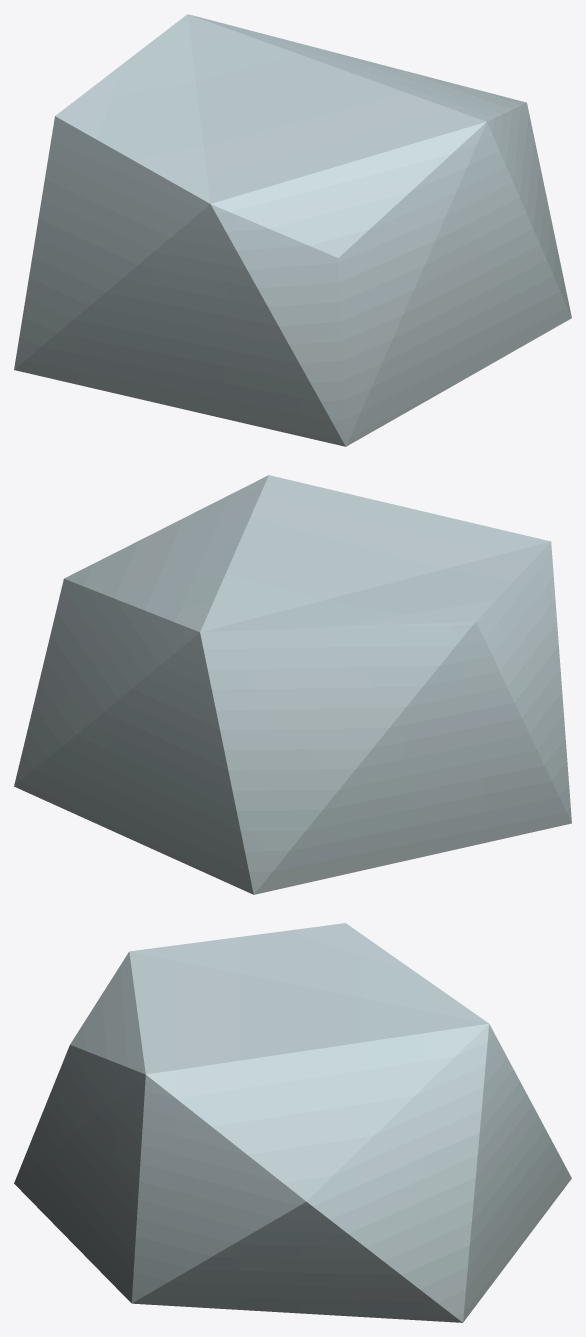
3 views of the same model, one above another, from view 1: azimuth 30°, elevation 25°; view 2: azimuth 150°, elevation 25°; view 3: azimuth 270°, elevation 25° (orthographic). The views are drawn at different scales.
Parts seen in each view (by area): view 1: Rock_03; view 2: Rock_03; view 3: Rock_03.
Part boxes in pixels (box(x1,y1,x2,y2)): Rock_03: box(14, 14, 571, 446); Rock_03: box(14, 475, 571, 894); Rock_03: box(14, 923, 571, 1322).
Size of the model in its own units: 30.87 by 15.02 by 30.92.
